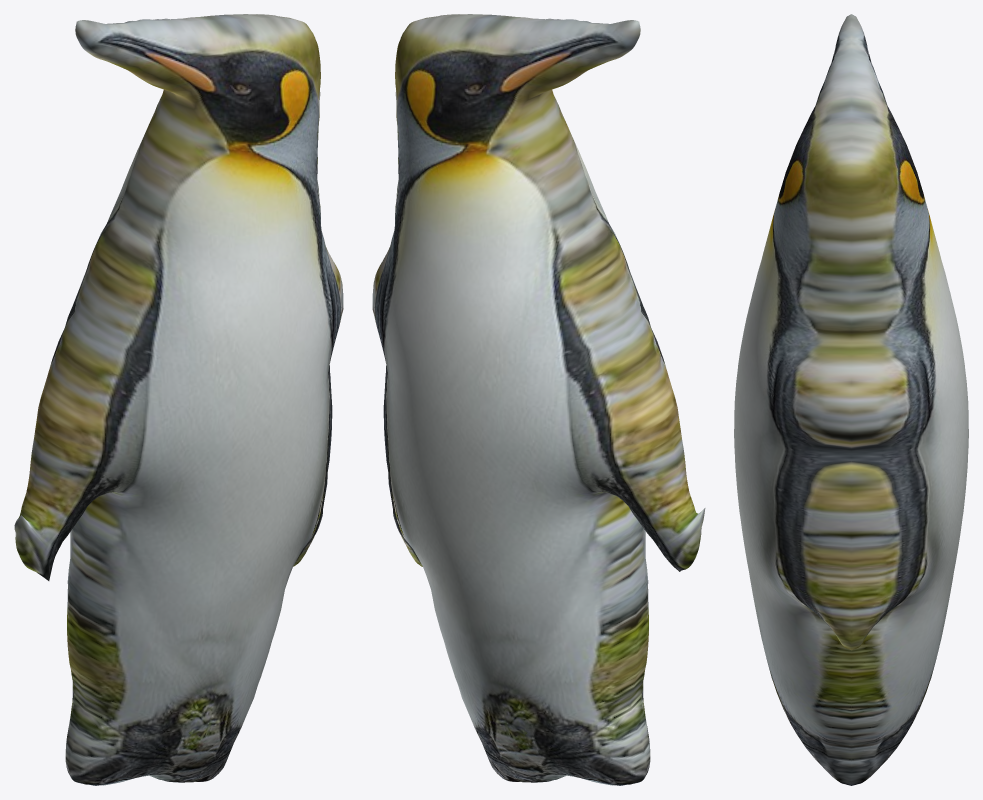
File: mm_project.glb
3 renders of one model, left to right at view 1: azimuth 30°, elevation 25°; view 2: azimuth 150°, elevation 25°; view 3: azimuth 270°, elevation 25°, orthographic. The views are drawn at different scales.
Bounding box in the file's own units: 2.72 × 6.44 × 1.92.
Materials: 1 (1 with a texture image).
